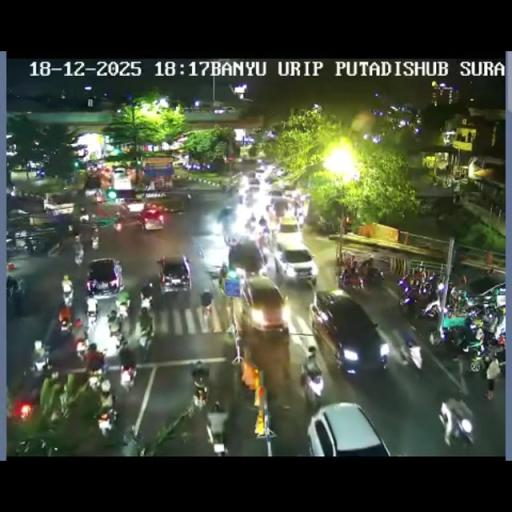Car: (308, 290, 388, 376), (305, 401, 393, 455), (238, 274, 290, 340), (271, 226, 318, 284), (85, 258, 123, 299), (226, 238, 264, 277), (157, 254, 191, 292), (44, 194, 74, 216), (140, 206, 166, 230), (270, 196, 291, 222), (108, 188, 140, 205), (278, 218, 300, 235), (242, 187, 260, 207), (266, 188, 284, 202), (254, 168, 270, 181), (246, 178, 261, 190)
Motorcycle: (84, 288, 151, 396), (398, 274, 442, 318), (434, 315, 478, 359), (10, 374, 46, 422), (388, 323, 422, 371), (94, 381, 118, 433), (299, 360, 324, 406), (477, 323, 505, 364), (11, 432, 57, 456), (450, 408, 476, 446), (221, 328, 238, 379), (6, 275, 26, 315), (84, 342, 105, 374), (218, 204, 236, 240), (70, 318, 88, 352), (138, 327, 156, 361), (119, 362, 138, 392), (449, 278, 468, 308), (31, 340, 48, 373), (360, 265, 384, 288), (208, 424, 226, 454), (341, 268, 365, 290), (462, 302, 486, 324), (86, 368, 106, 394), (192, 382, 208, 410), (58, 304, 74, 330), (468, 349, 486, 372), (191, 360, 209, 383), (316, 216, 338, 234), (86, 295, 99, 325), (200, 297, 214, 324), (113, 332, 129, 354), (116, 298, 130, 323), (258, 225, 270, 252), (60, 284, 74, 307), (140, 292, 154, 314), (5, 234, 20, 254), (218, 263, 228, 292), (294, 204, 306, 226), (24, 237, 37, 257), (379, 346, 389, 370), (414, 267, 428, 284), (225, 233, 240, 247), (106, 308, 118, 325), (245, 214, 256, 231), (90, 232, 100, 250), (74, 247, 84, 265), (226, 184, 238, 198), (118, 201, 128, 216), (79, 210, 89, 223), (114, 218, 122, 232), (94, 191, 103, 203), (484, 266, 494, 276), (221, 182, 227, 194)
